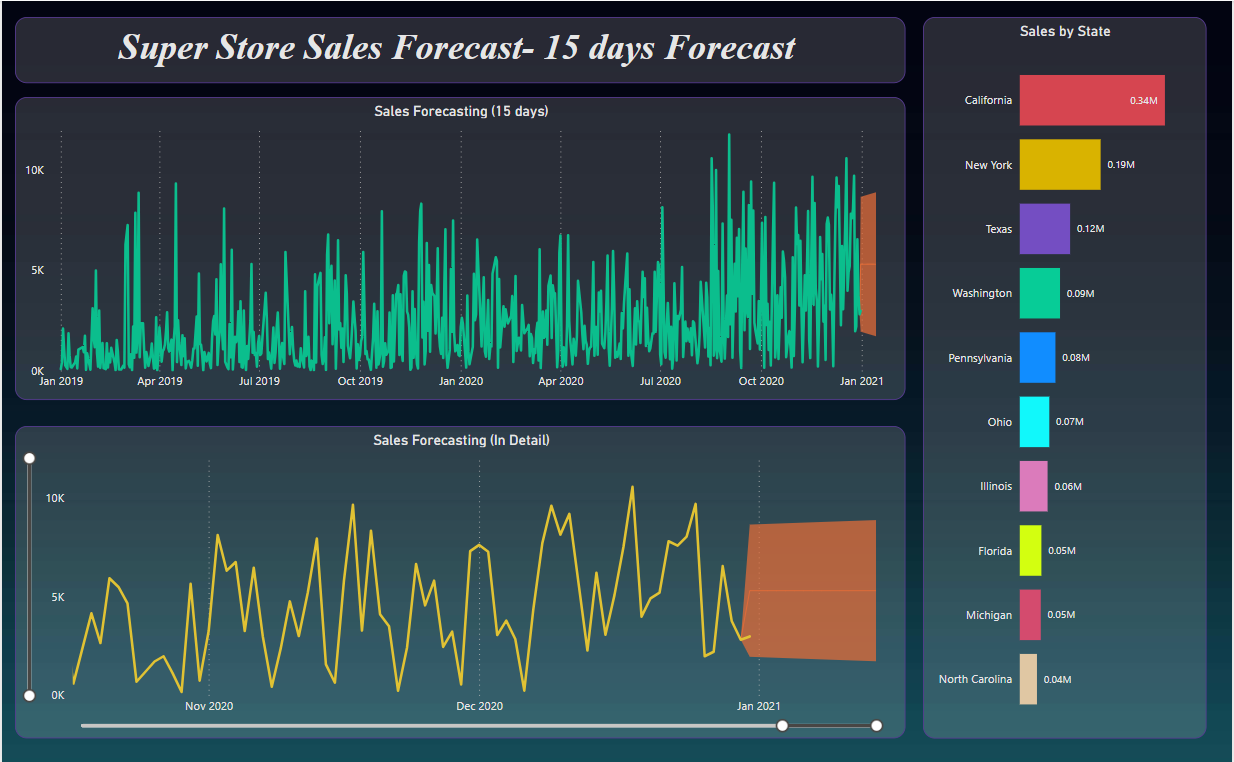

This screenshot's page, from the dashboard's own definition file:
{"tool":"powerbi","page":{"name":"Sales Forecasting","canvas":[1450,900],"ordinal":1},"visuals":[{"type":"lineChart","title":"Sales Forecasting (In Detail)","fields":{"Y":["Sum(SuperStore_Sales_Dataset.Sales)"],"Category":["SuperStore_Sales_Dataset.Order Date"]},"box":[15.8,500.9,1049.3,367.8],"z":0},{"type":"lineChart","title":"Sales Forecasting (15 days)","fields":{"Y":["Sum(SuperStore_Sales_Dataset.Sales)"],"Category":["SuperStore_Sales_Dataset.Order Date"]},"box":[15.8,113.4,1049.3,357.2],"z":1000},{"type":"textbox","box":[15.8,18.5,1049.3,77.8],"z":2000},{"type":"clusteredBarChart","fields":{"Y":["Sum(SuperStore_Sales_Dataset.Sales)"],"Category":["SuperStore_Sales_Dataset.State"]},"box":[1084.9,18.5,333.5,850.2],"z":3000}]}

Visuals, with their boxes in screenshot pixels (x1, y1, x2, y2), scaled from the page's 1450x900 canvas onto the 1234x762 screenshot:
"Sales Forecasting (In Detail)" lineChart: bbox=(13, 424, 906, 735)
"Sales Forecasting (15 days)" lineChart: bbox=(13, 96, 906, 398)
textbox: bbox=(13, 16, 906, 82)
clusteredBarChart - Sum(SuperStore_Sales_Dataset.Sales) x SuperStore_Sales_Dataset.State: bbox=(923, 16, 1207, 735)
